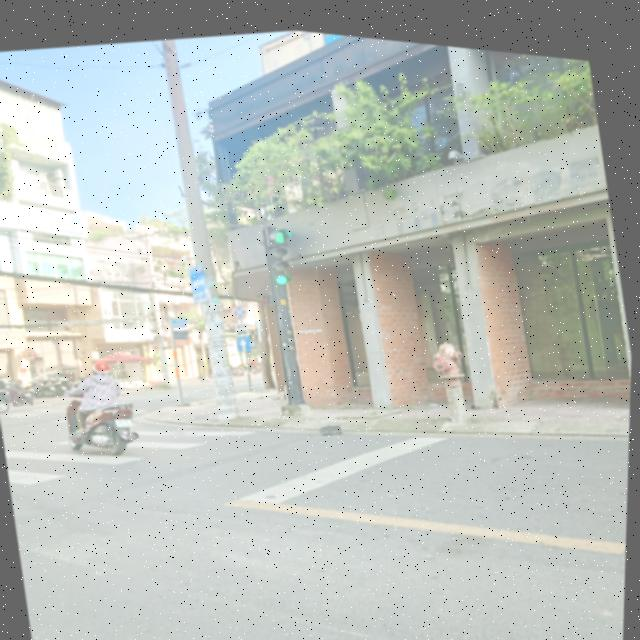Green: (259, 233, 302, 288)
